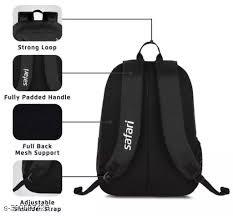backpack: (73, 40, 229, 197)
